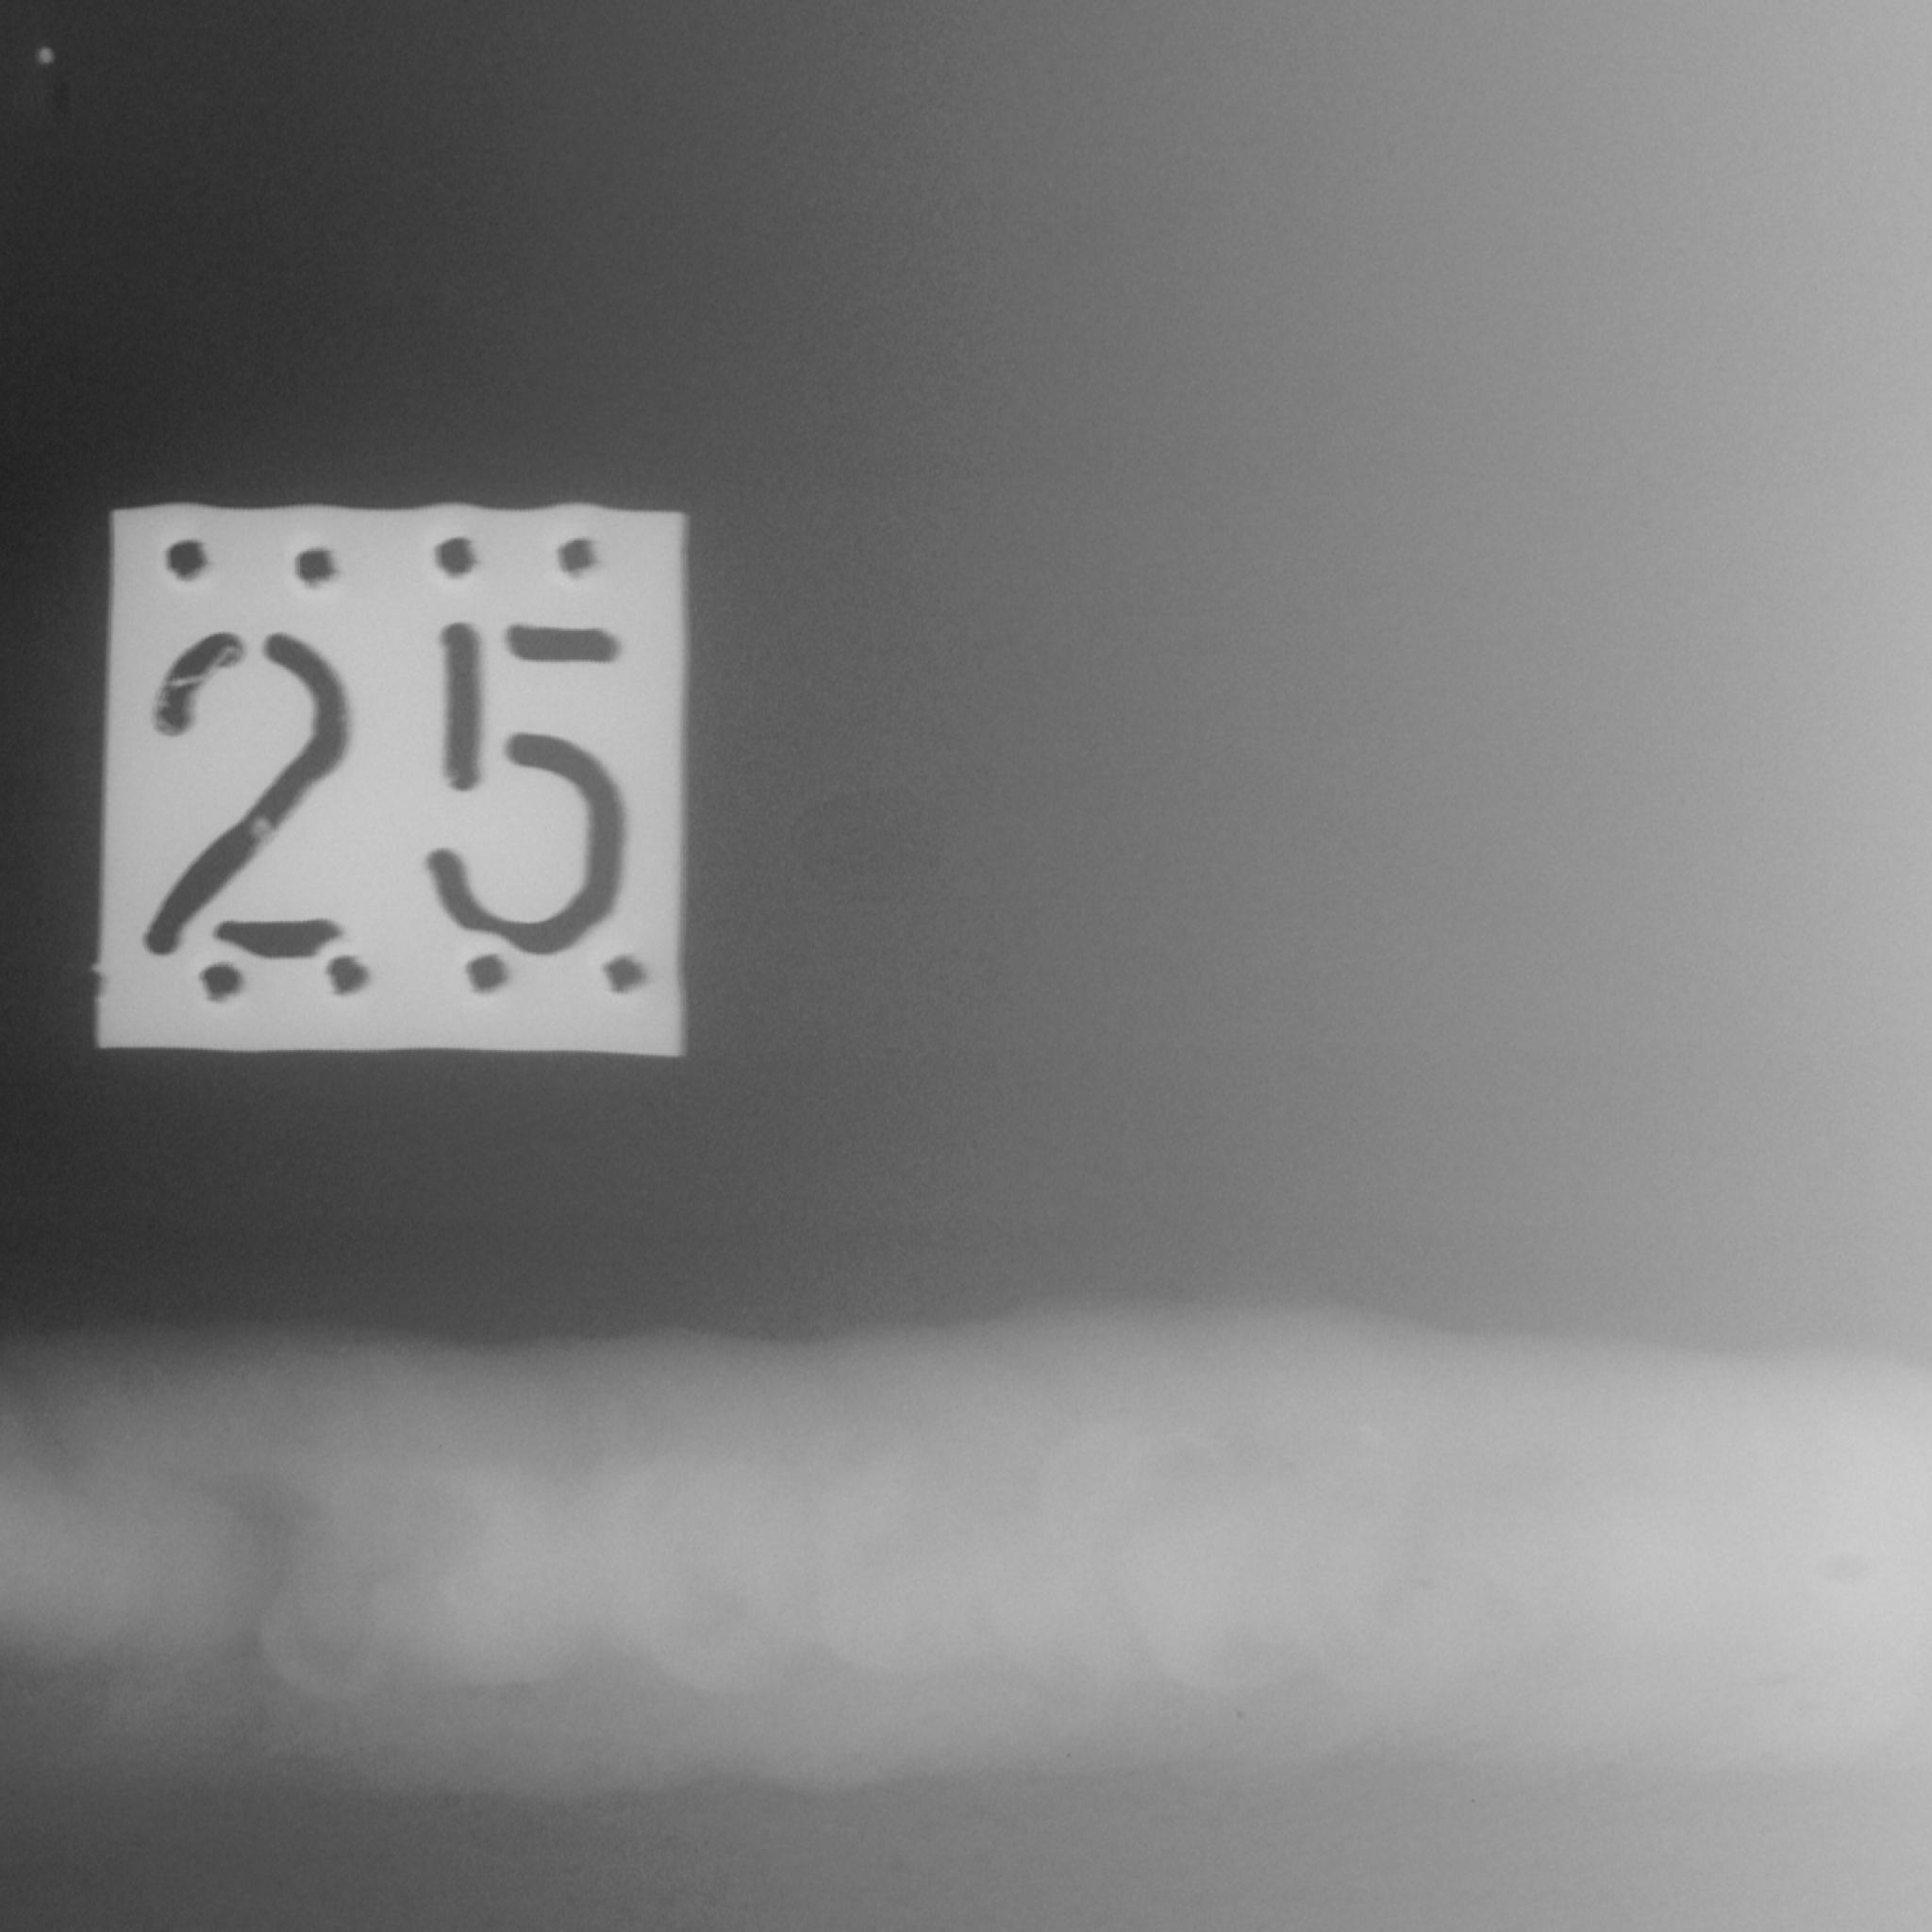FF: (171, 1414, 427, 1745)
IE: (1703, 1526, 1913, 1740)
PO: (1232, 1706, 1252, 1722)
